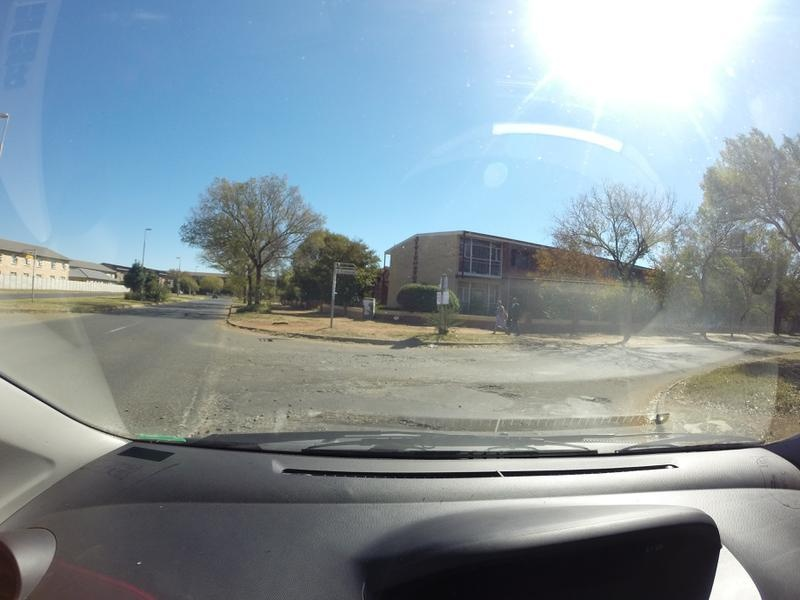pothole: (298, 403, 436, 429), (463, 374, 518, 406), (342, 347, 414, 366), (567, 386, 613, 412), (245, 333, 287, 347)
